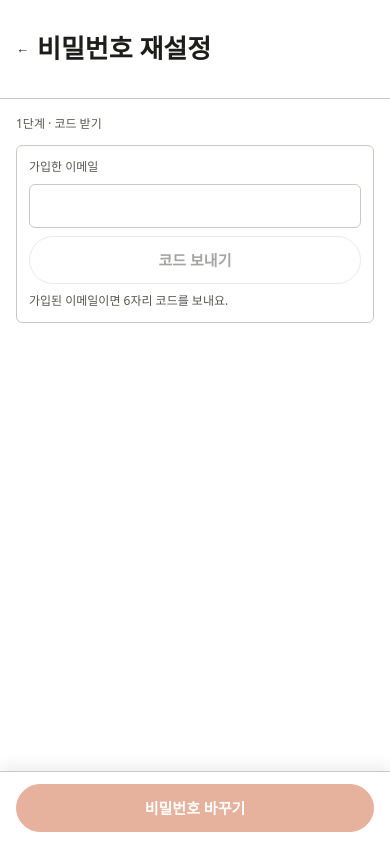
Test case: PasswordResetPage (A3) › VALIDATION_ERROR면 서버 문구를 보인다
Expected: the heading "비밀번호 재설정" is shown, left=37, top=29, right=211, bottom=68
Step 1. Type "a@b.c" into the field labelled "가입한 이메일" → x=195, y=206, box left=29, top=184, right=361, bottom=228
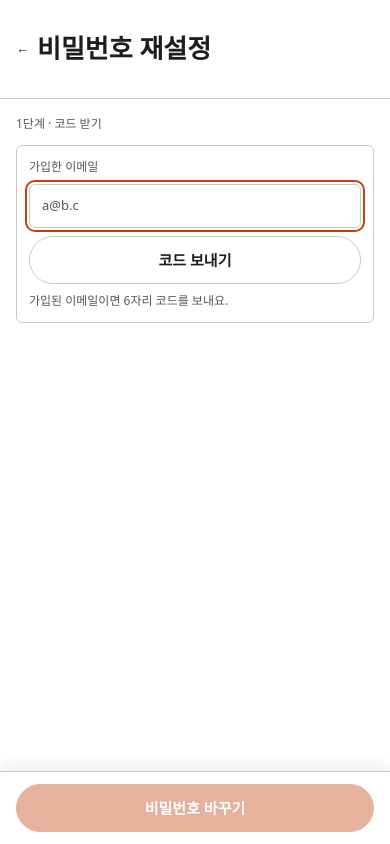
Step 2. Click the button "코드 보내기" → x=195, y=260, box left=29, top=236, right=361, bottom=284
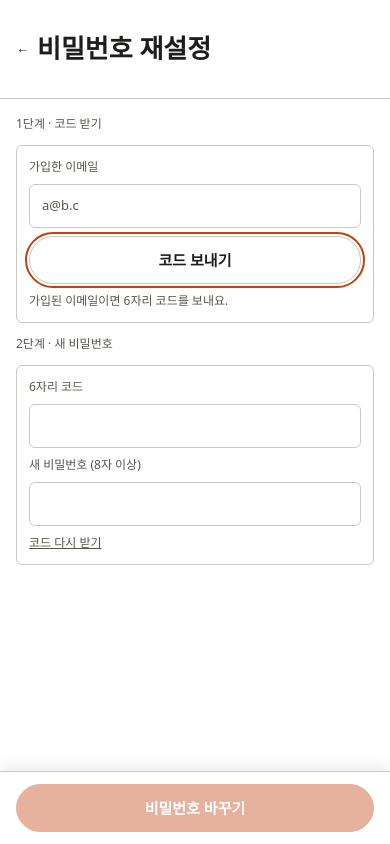
Step 3. Type "123456" into the field labelled "6자리 코드" → x=195, y=426, box left=29, top=404, right=361, bottom=448
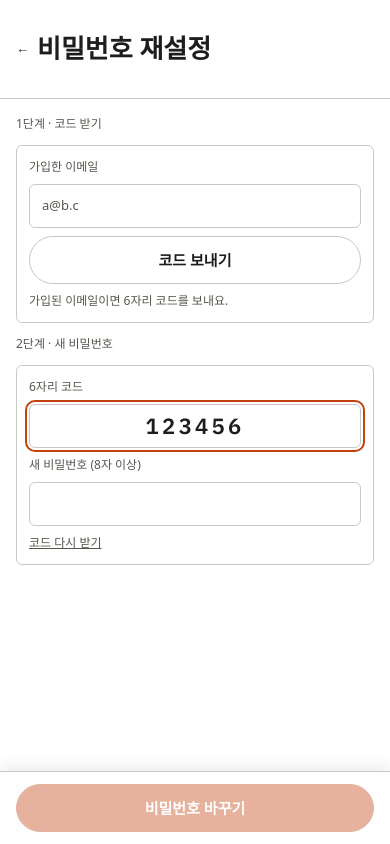
Step 4. Type "pw123456" into the password field labelled "새 비밀번호 (8자 이상)" → x=195, y=504, box left=29, top=482, right=361, bottom=526
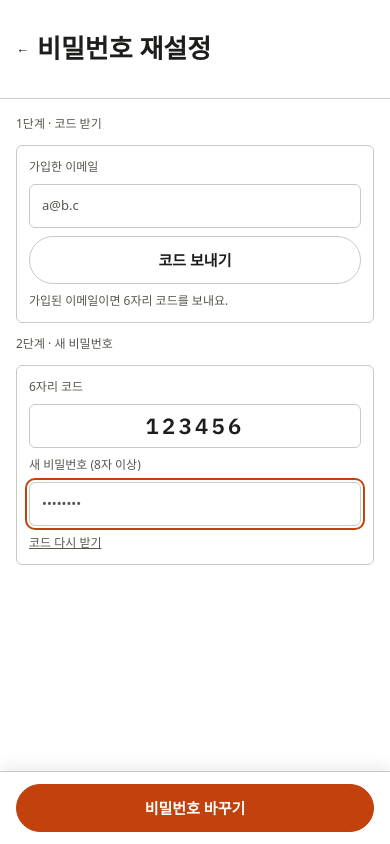
Step 5. Click the button "비밀번호 바꾸기" → x=195, y=808, box left=16, top=784, right=374, bottom=832
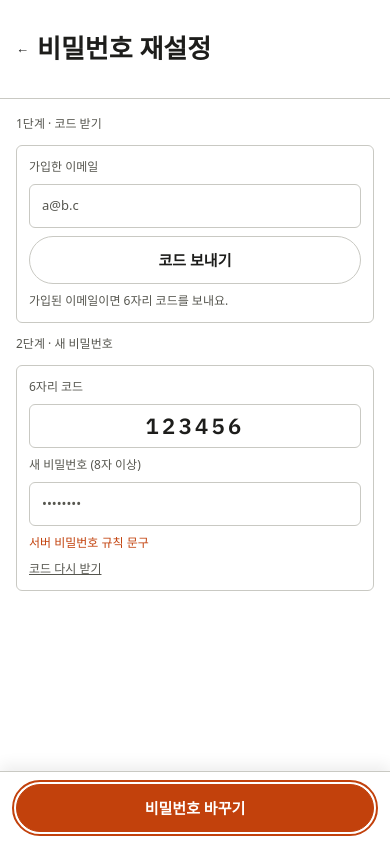
Expected: the message reads "서버 비밀번호 규칙 문구", left=29, top=534, right=149, bottom=551
